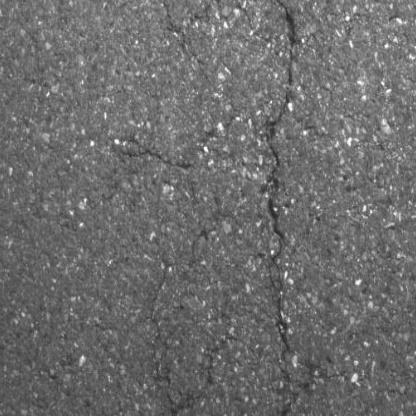Cracks: (263, 0, 301, 354)
